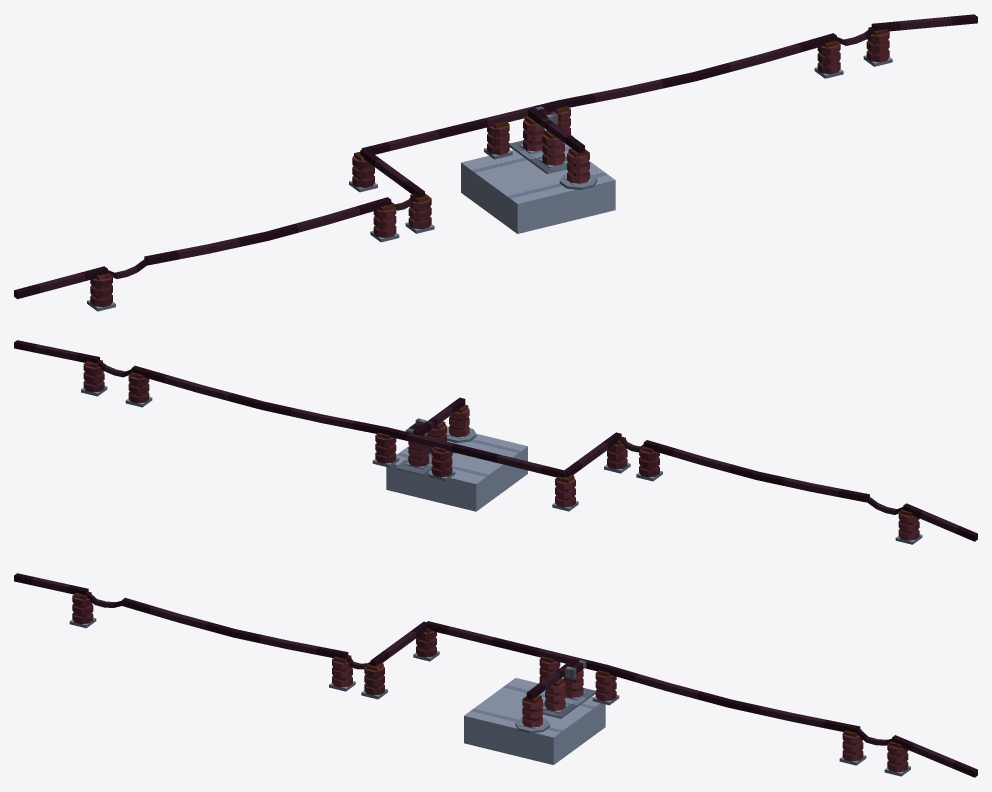
Rendered from ss3_roof_lh.obj.
3 renders of one model, top to bottom at view 1: azimuth 30°, elevation 25°; view 2: azimuth 150°, elevation 25°; view 3: azimuth 330°, elevation 25°, orthographic. The views are drawn at different scales.
Visible parts, largest first — view 1: cube; view 2: cube; view 3: cube.
Boxes of the visible parts, bbox=[...] form: cube: bbox=[14, 14, 977, 311]; cube: bbox=[14, 340, 977, 544]; cube: bbox=[14, 573, 977, 777].
Bounding box in the file's own units: 10.25 × 0.6841 × 1.19.
